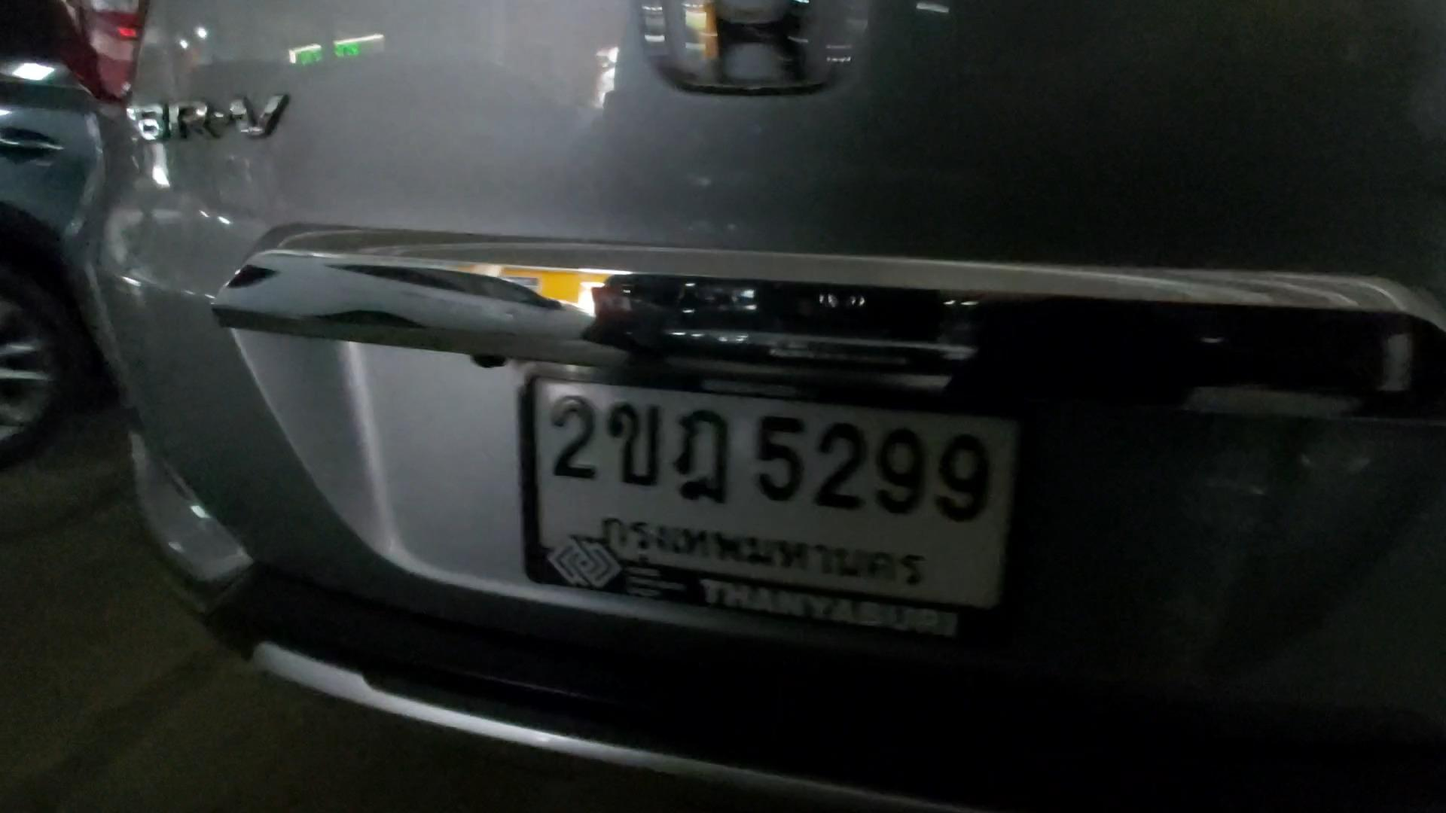license-plate: (537, 377, 1013, 616)
